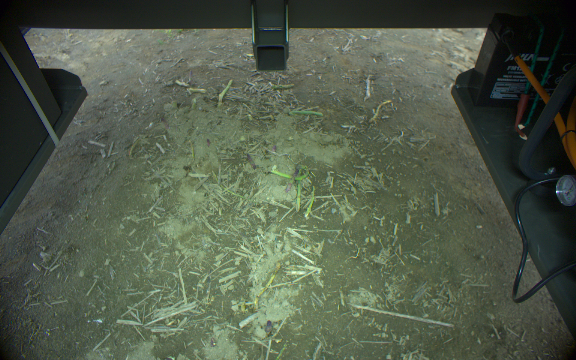aspa: (268, 161, 310, 180), (287, 107, 325, 120), (218, 78, 234, 105), (285, 163, 299, 191), (269, 82, 295, 90)
